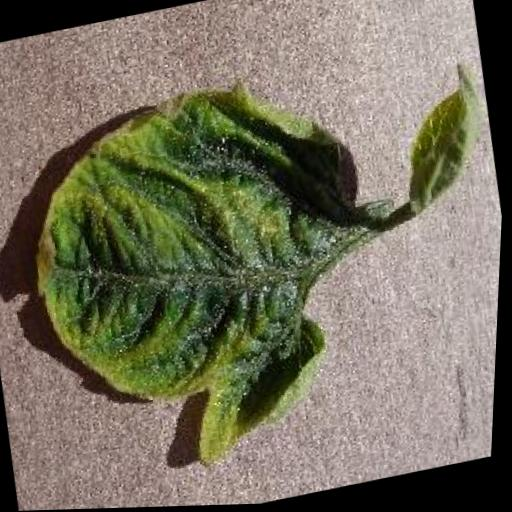Yellow Leaf Curl Virus: (1, 54, 407, 496)
